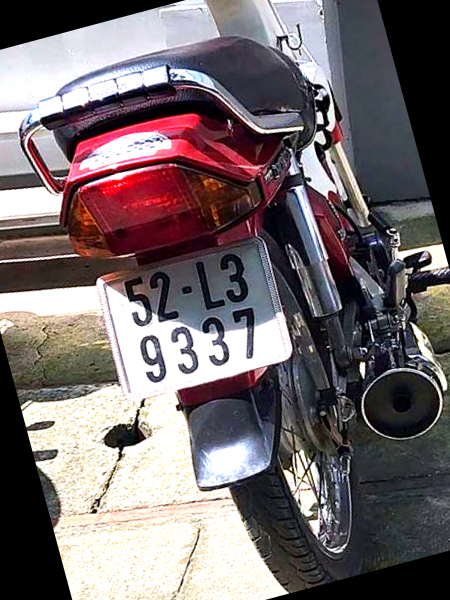number: (100, 251, 291, 396)
